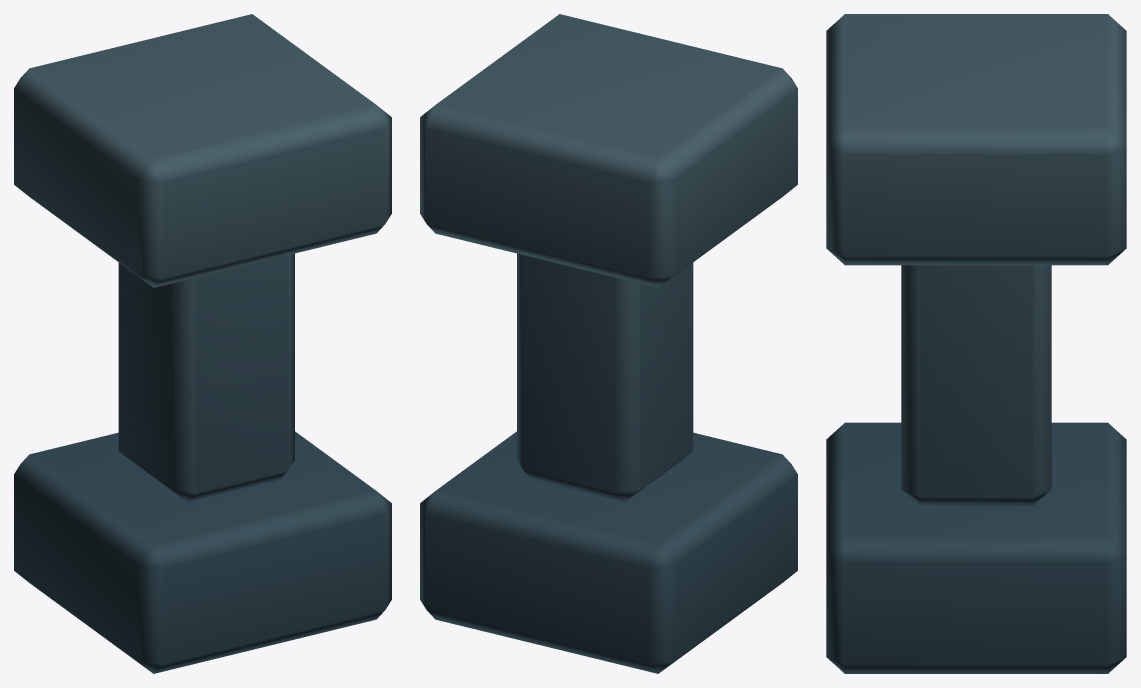
The model's file is fence_01_half_hue_3.fbx.
3 views of the same model, side by side, from view 1: azimuth 30°, elevation 25°; view 2: azimuth 150°, elevation 25°; view 3: azimuth 270°, elevation 25° (orthographic). The views are drawn at different scales.
Visible parts, largest first — view 1: fence_01_half_hue_3; view 2: fence_01_half_hue_3; view 3: fence_01_half_hue_3.
Boxes of the visible parts, left/top/right/bottom form: fence_01_half_hue_3: left=14, top=14, right=391, bottom=673; fence_01_half_hue_3: left=420, top=14, right=797, bottom=673; fence_01_half_hue_3: left=826, top=14, right=1126, bottom=673.
Bounding box in the file's own units: 51.56 × 100 × 50.
